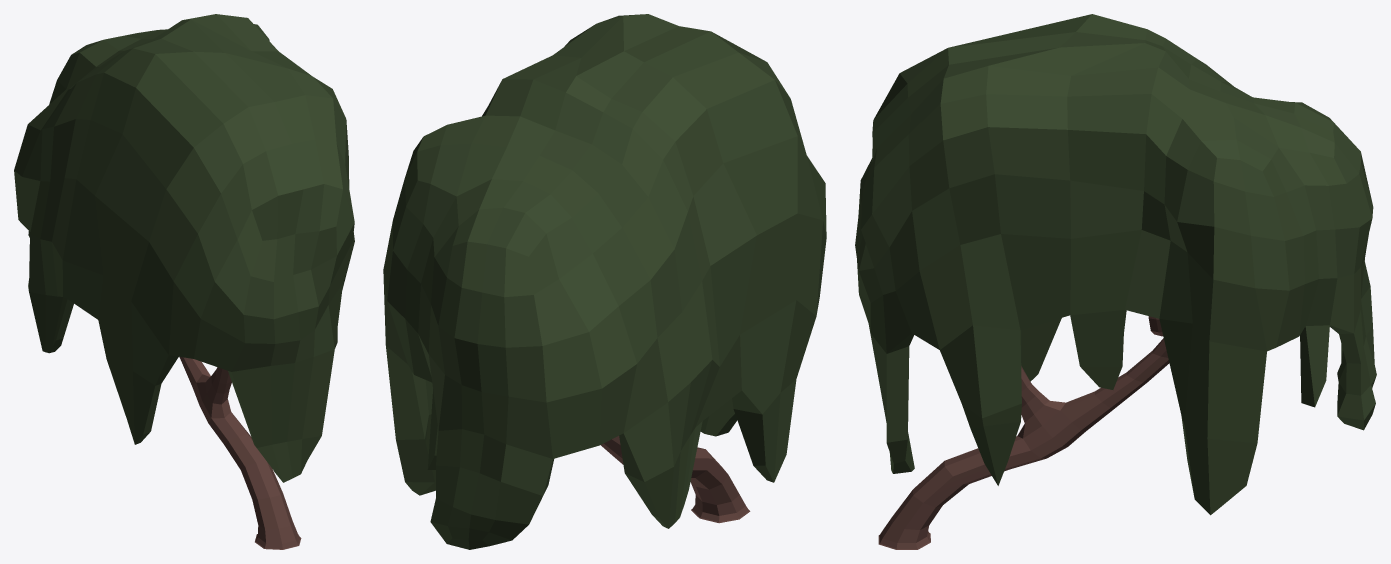
The model's file is willow-2.glb.
The picture shows the model from 3 angles, left to right: view 1: azimuth 30°, elevation 25°; view 2: azimuth 150°, elevation 25°; view 3: azimuth 270°, elevation 25°; orthographic projection. The views are drawn at different scales.
Visible parts, largest first — view 1: Willow_2; view 2: Willow_2; view 3: Willow_2.
Boxes of the visible parts, x1=… form: Willow_2: x1=14, y1=14, x2=354, y2=549; Willow_2: x1=383, y1=14, x2=826, y2=549; Willow_2: x1=855, y1=14, x2=1376, y2=549.
Bounding box in the file's own units: 1.95 × 3.32 × 3.11.
